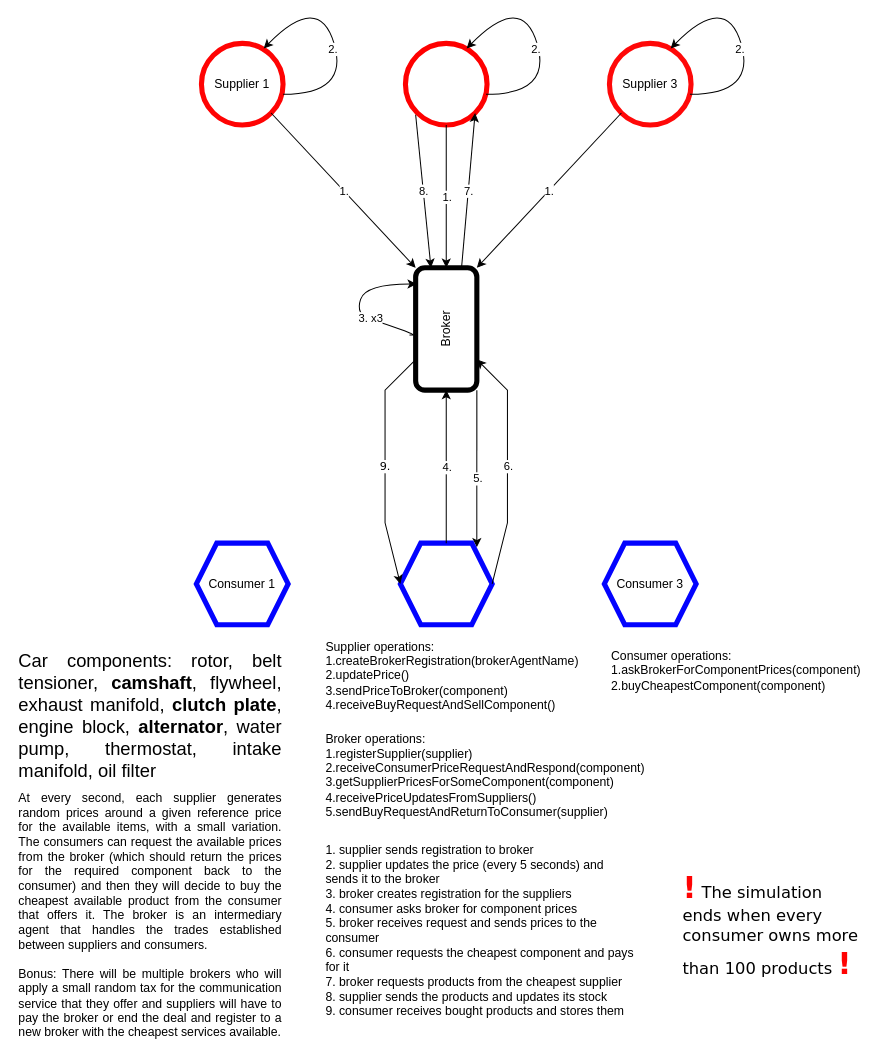
This 881x1061 diagram has some shape labels left out. The centre of each missing label's shape, as x and y in pixels:
"Consumer 2" goes at pixel 445 583.
"Supplier 2" goes at pixel 445 83.
